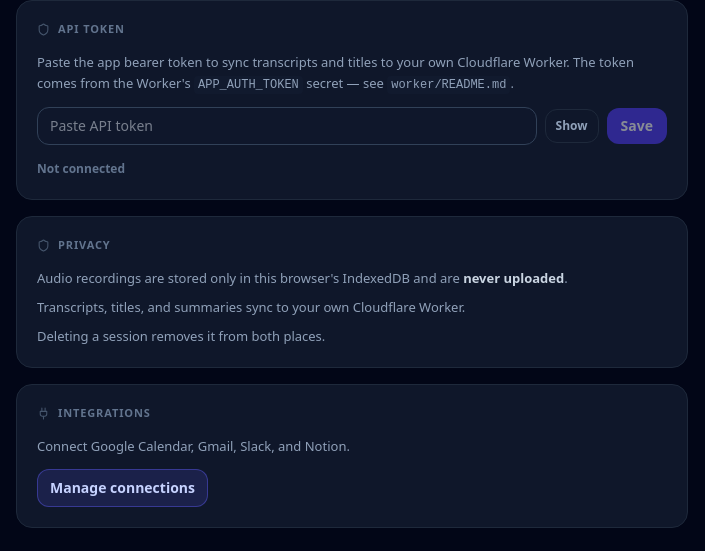
Test: SettingsPage token card › a network error shows Server unreachable, not Invalid token
Type "maybe-fine-token" into the password field labelled "API token".
click(287, 126); type("maybe-fine-token")  # box [37, 107, 537, 145]
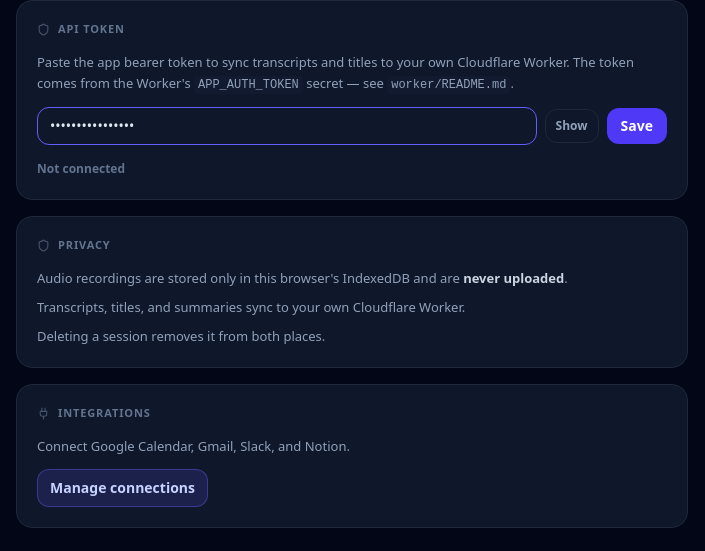
Click the button "Save".
click(637, 126)  # box [607, 108, 667, 144]
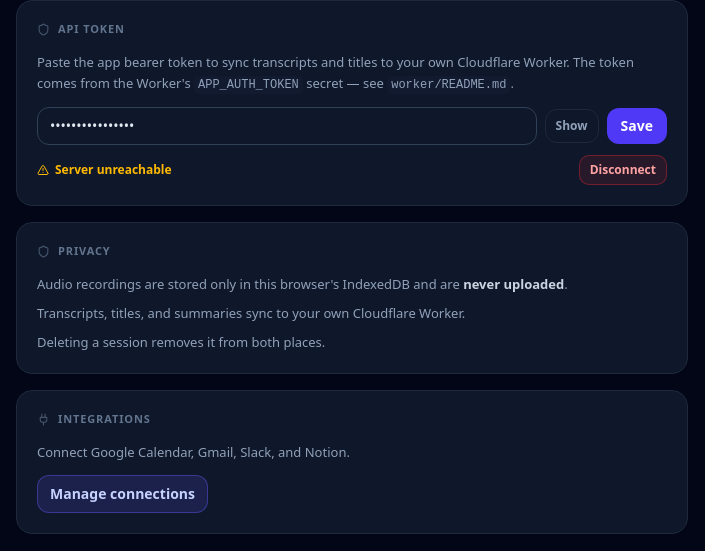
Expected: the element with test id "token-status" does not show "Invalid", [37, 158, 172, 182]
Expected: the element with test id "token-status" reads "Server unreachable", [55, 161, 172, 178]
